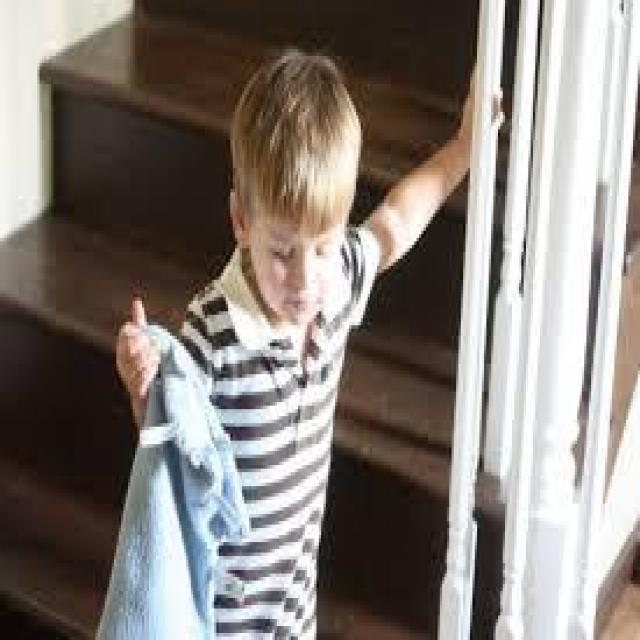child: (95, 52, 510, 640)
